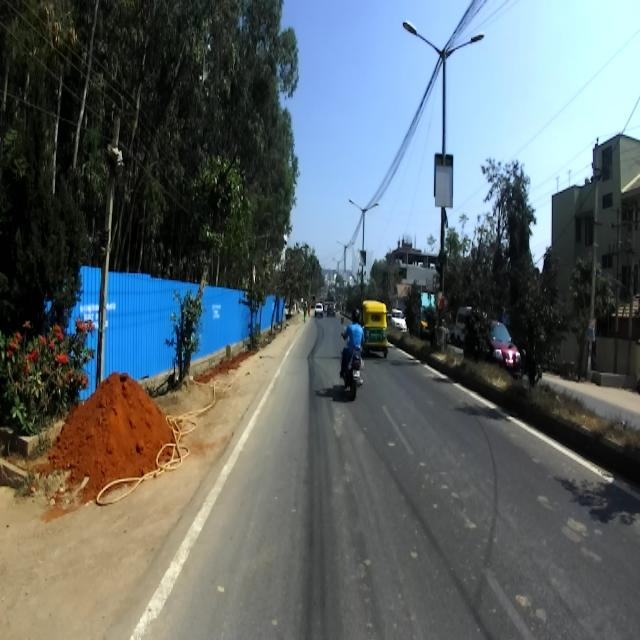Car_Hyundai: (461, 317, 521, 373)
motorcycle_bajaj: (339, 324, 367, 400)
